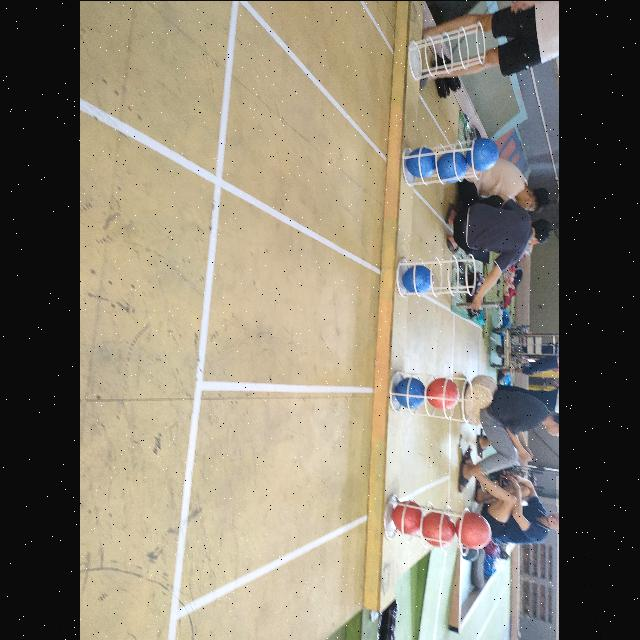B: (468, 138, 499, 170), (406, 146, 436, 178), (404, 264, 434, 294), (396, 376, 426, 406), (437, 150, 465, 182)
R: (458, 512, 492, 548), (424, 510, 456, 546), (426, 376, 459, 410), (392, 498, 422, 534)
